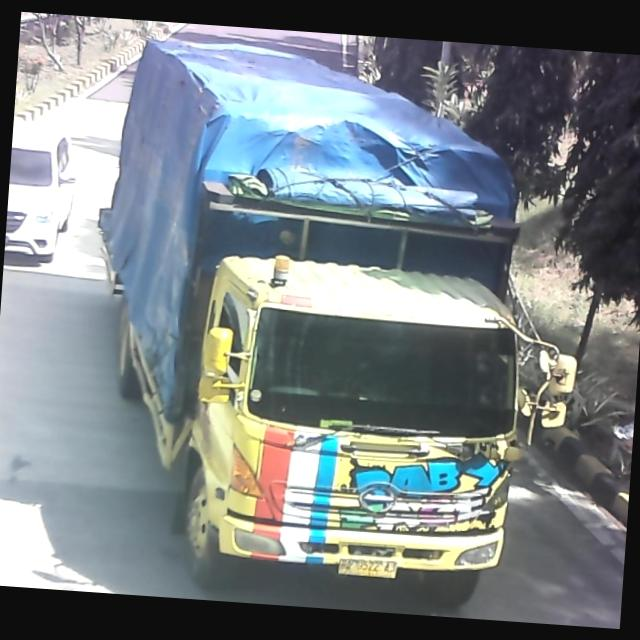plate: (337, 556, 402, 582)
